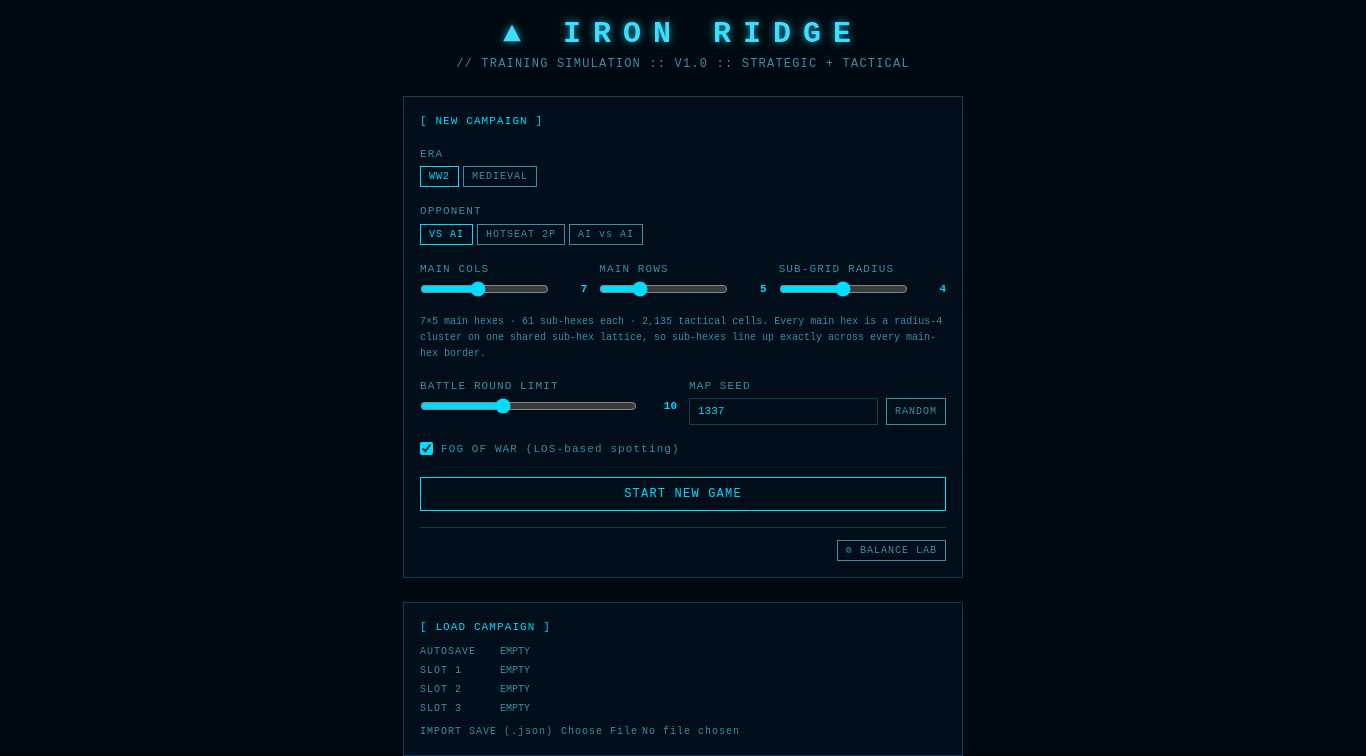
it: SetupScreen integration › BALANCE LAB button opens the lab with the current setup
The image size is (1366, 756).
Click the button "MEDIEVAL": (500, 176) [463,166,537,187]
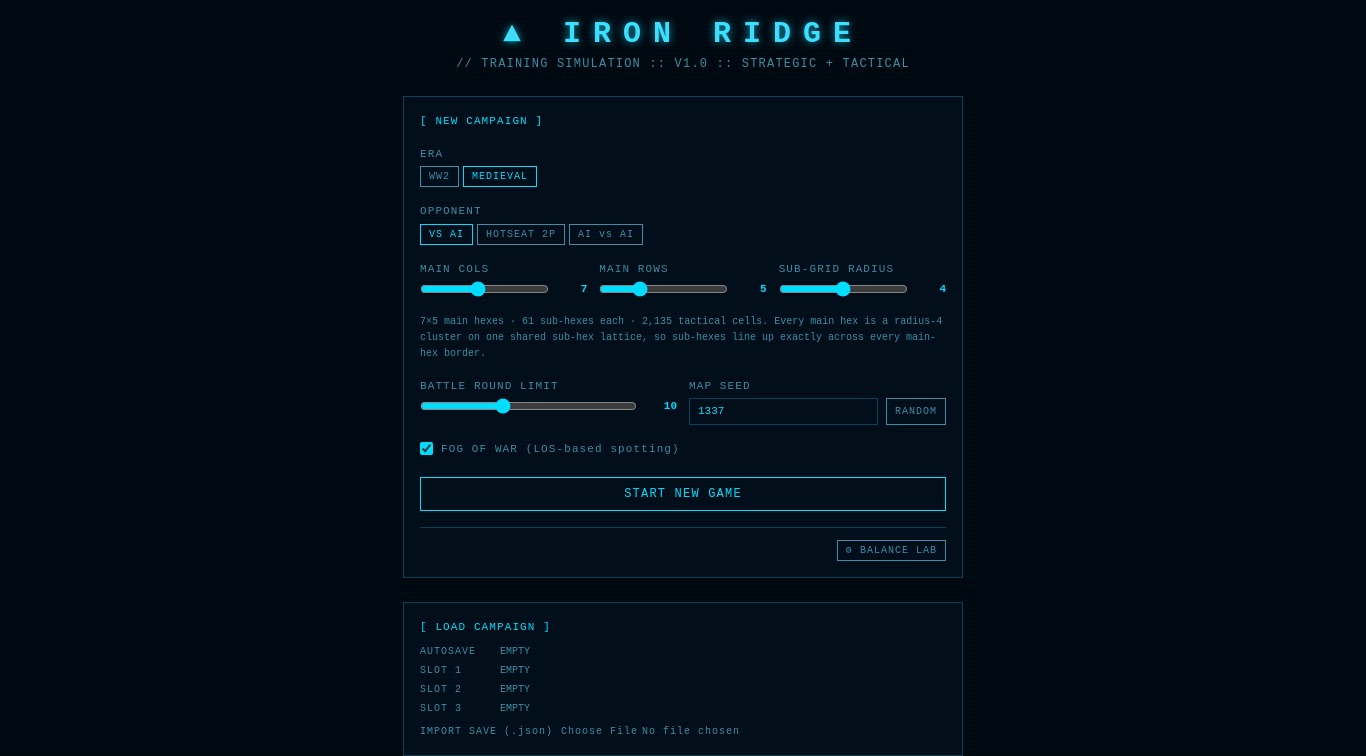
Click the button "⚙ BALANCE LAB": (892, 550) [837,540,946,561]
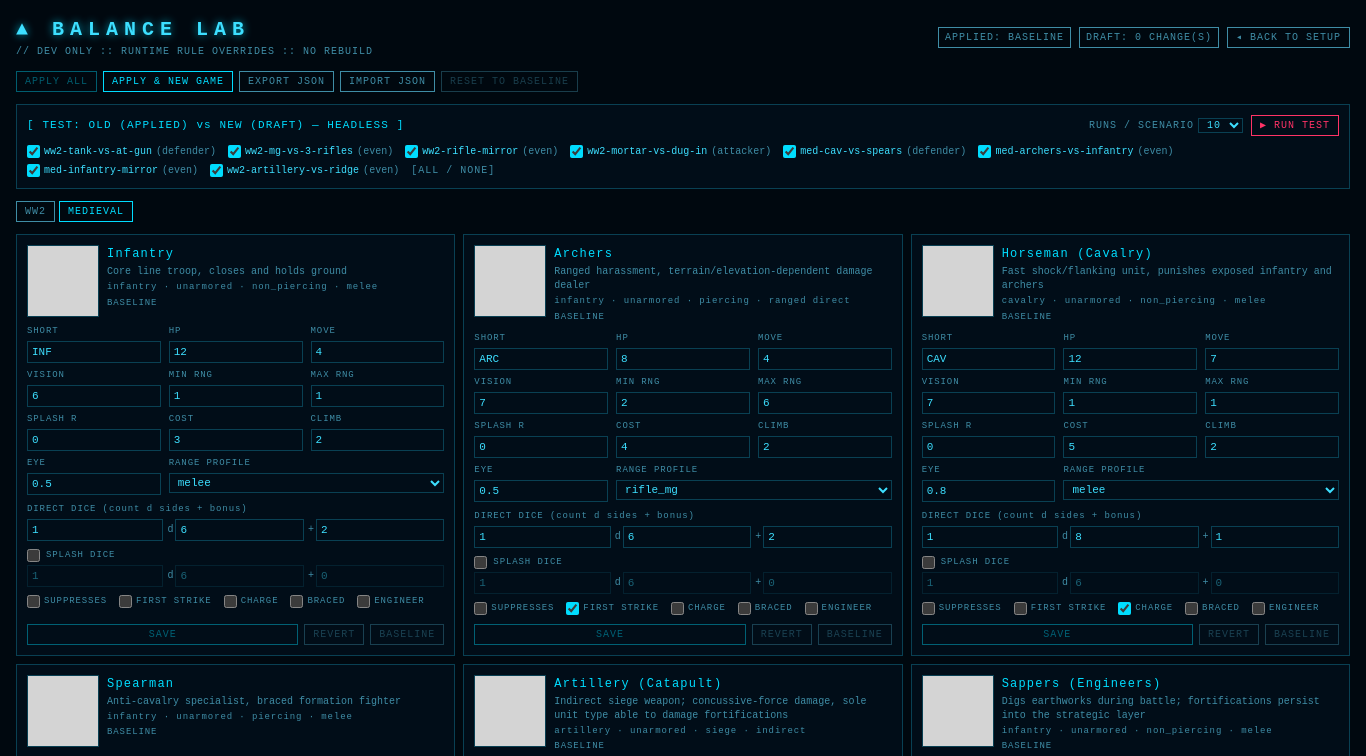
Expected: the text "▲ BALANCE LAB" is shown, [16,18,250,41]
